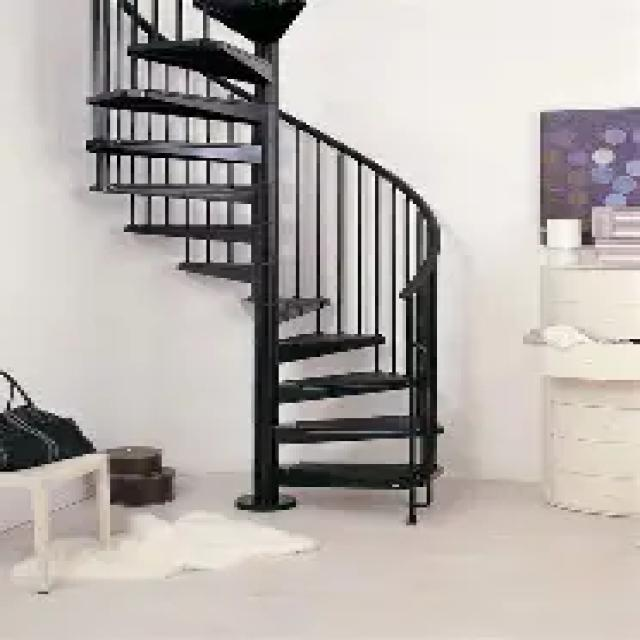Stairs: (83, 20, 535, 500)
